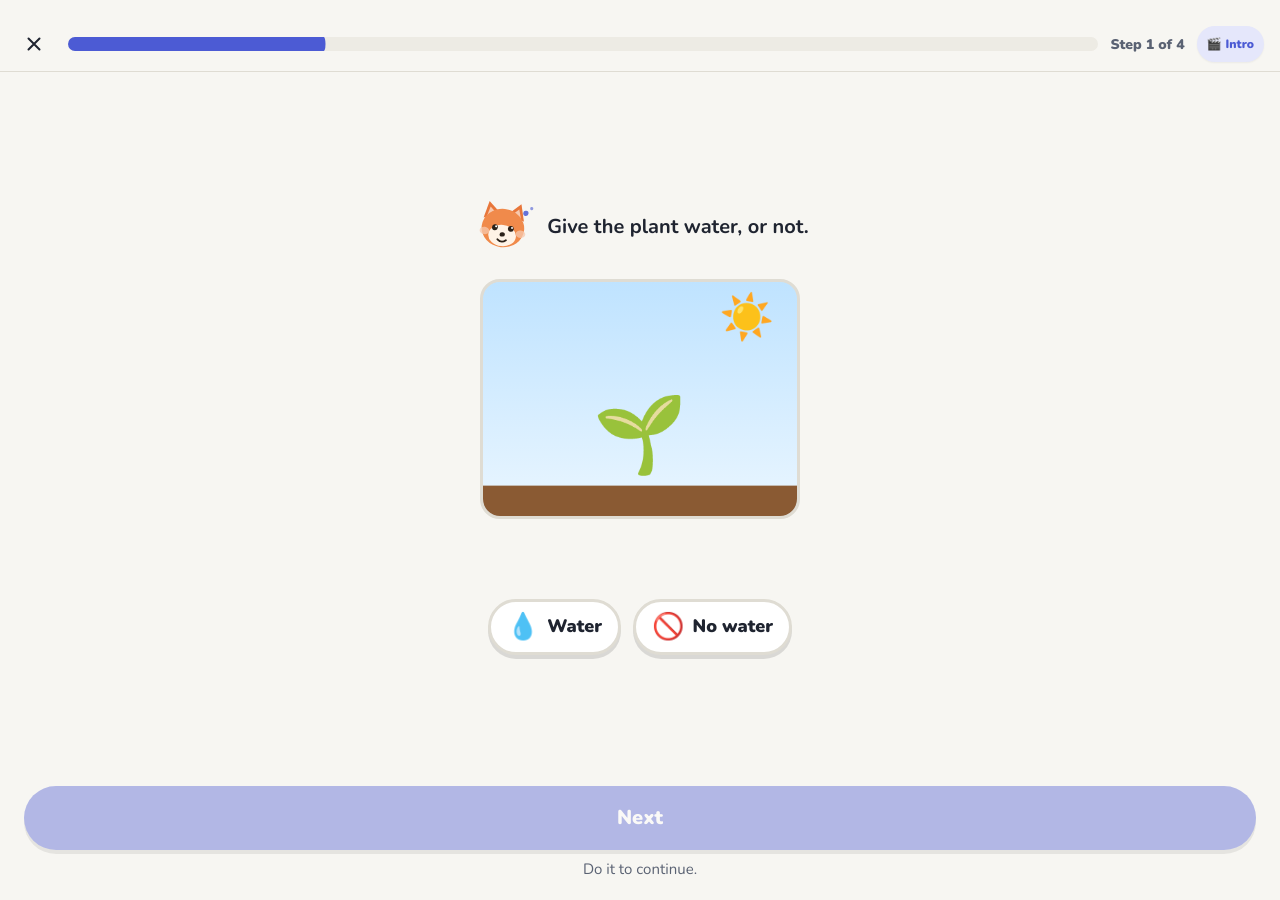
Science Level 1 di layar › Learn s1-u1: tebakan salah di langkah pictorial tetap membuka Next setelah hasilnya diputar
Click the button "💧 Water" at (554, 627), box [488,599,621,655]
Wait 1000 ms
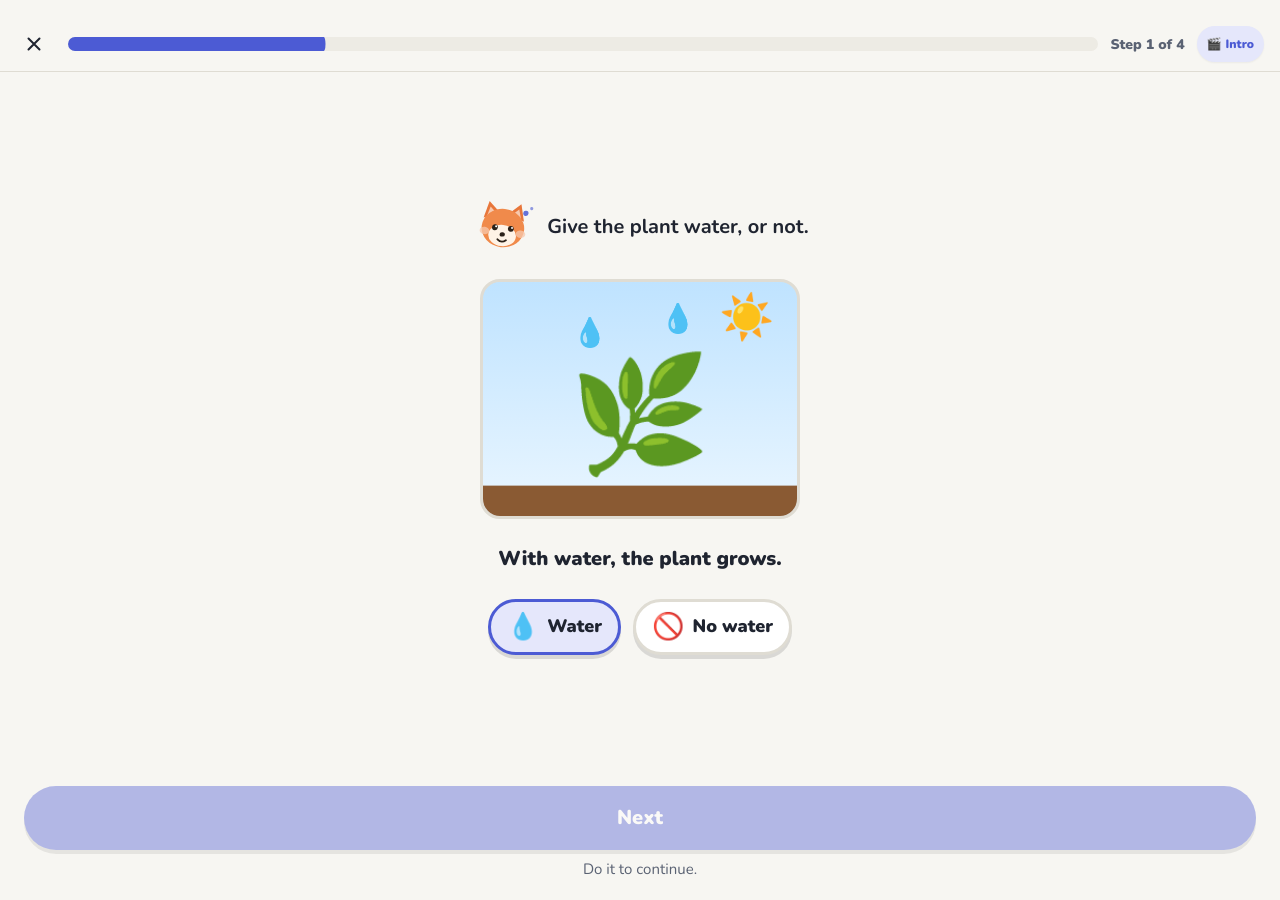
Click the button "🚫 No water" at (713, 627), box [633,599,792,655]
Wait 1000 ms
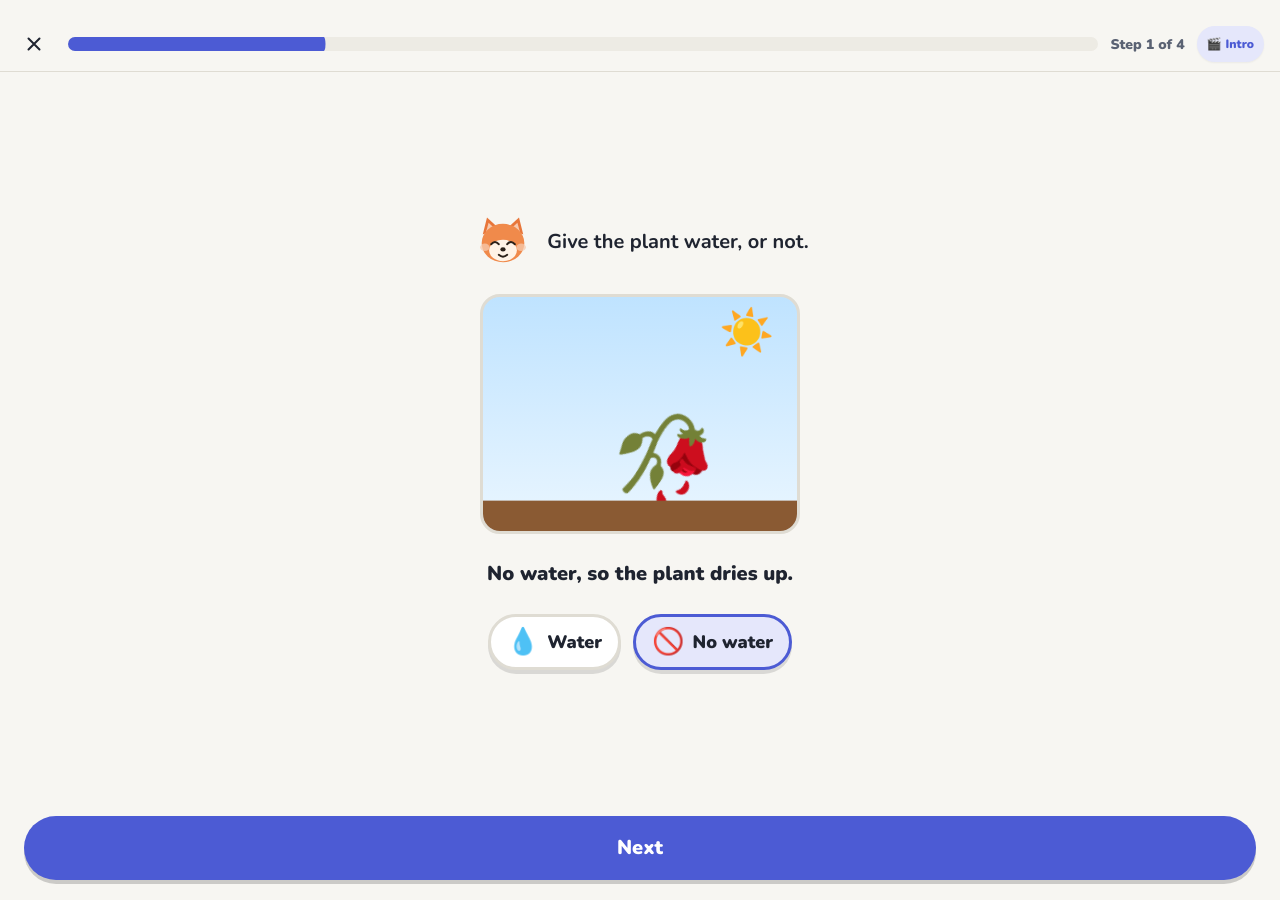
Click the button "Next" at (640, 848), box [24,816,1256,880]
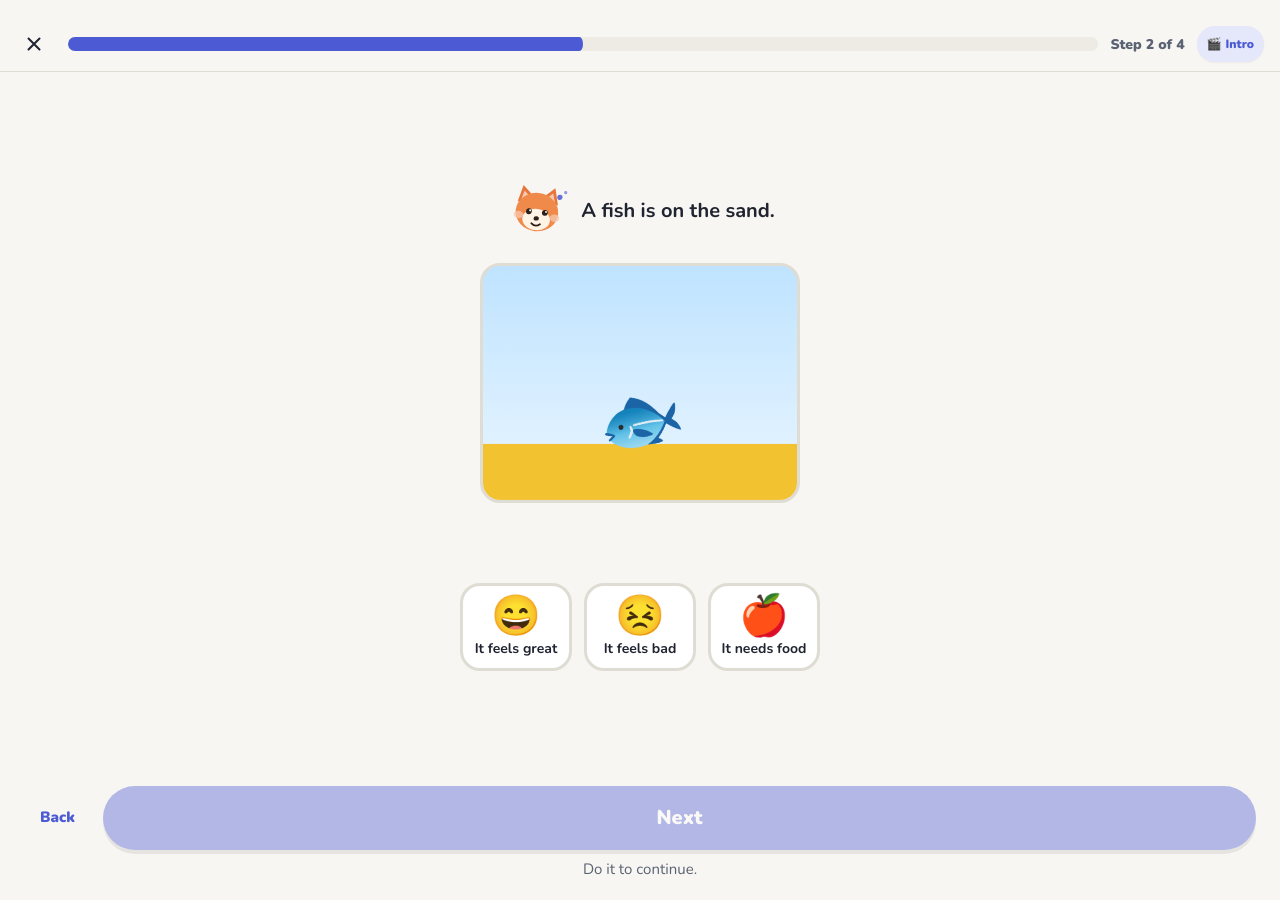
Click the button "🍎 It needs food" at (764, 627), box [708,583,820,671]
Wait 1000 ms
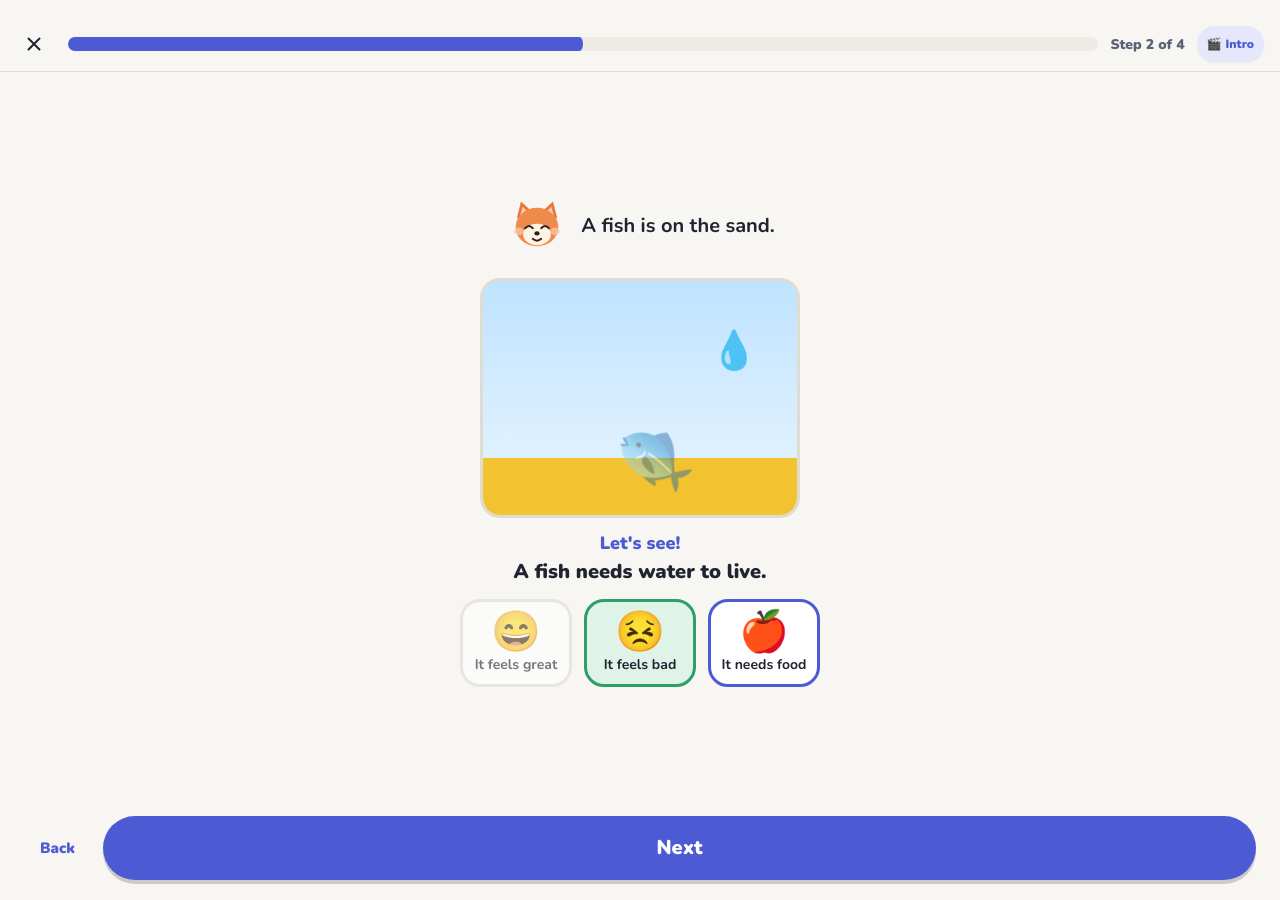
expect the text "Let's see!" is shown: met, box [600,530,680,556]
expect the text "A fish needs water to live." is shown: met, box [514,556,766,586]
expect the button "Next" is enabled: met, box [103,816,1256,880]
